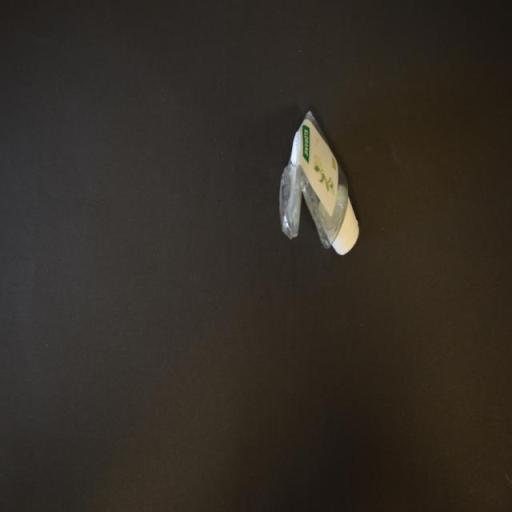plastic: (280, 110, 360, 258)
